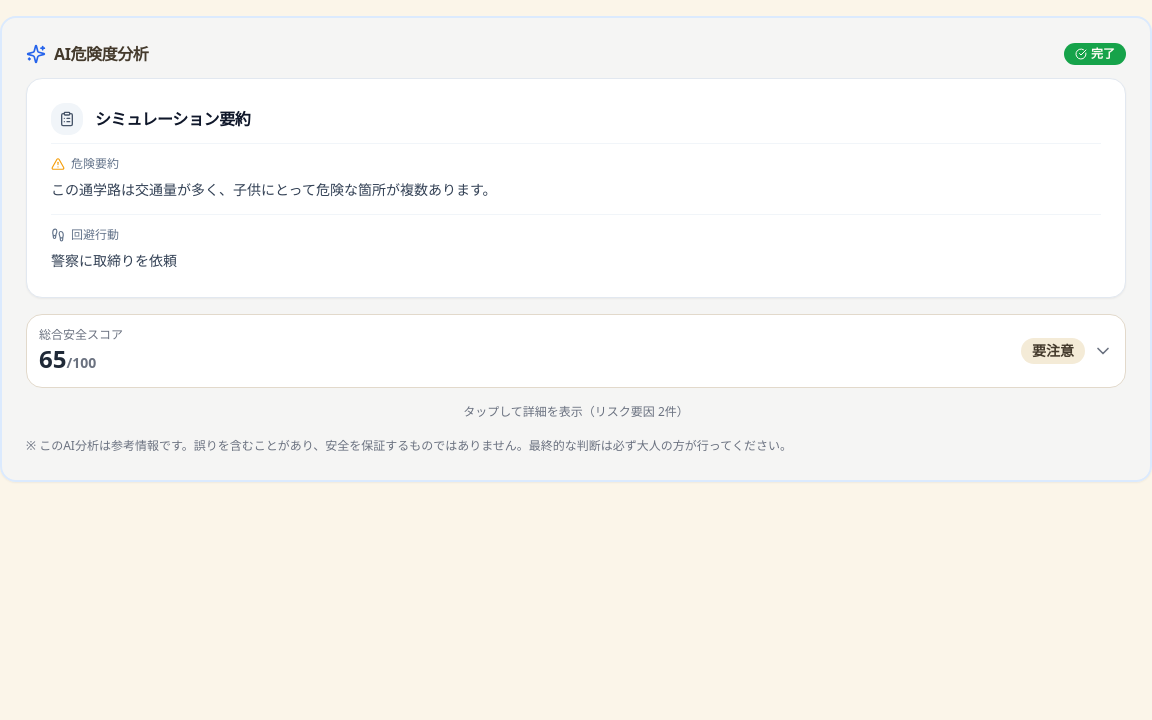
Test: VlmAnalysisPanel › should have correct aria-expanded attribute on toggle button
Click the button with aria-label "分析詳細を展開" at (81,334), box [26, 314, 1126, 388]
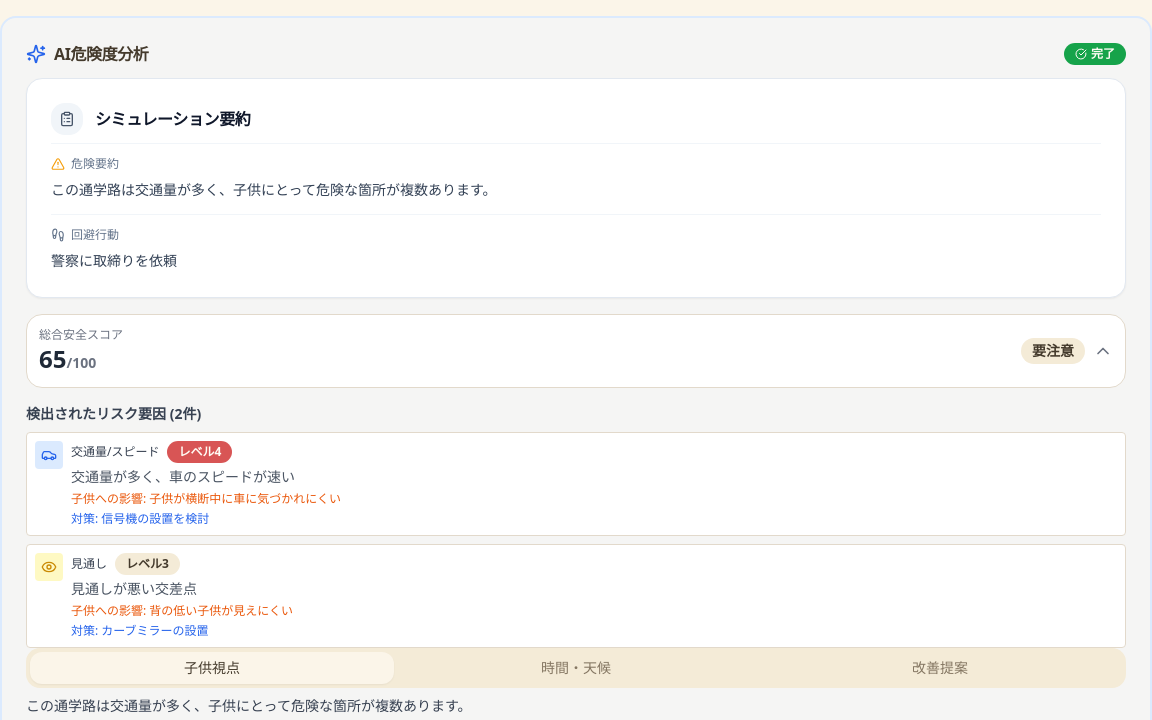
Check: the button named "分析詳細を展開" is expanded, box [26, 314, 1126, 388]
